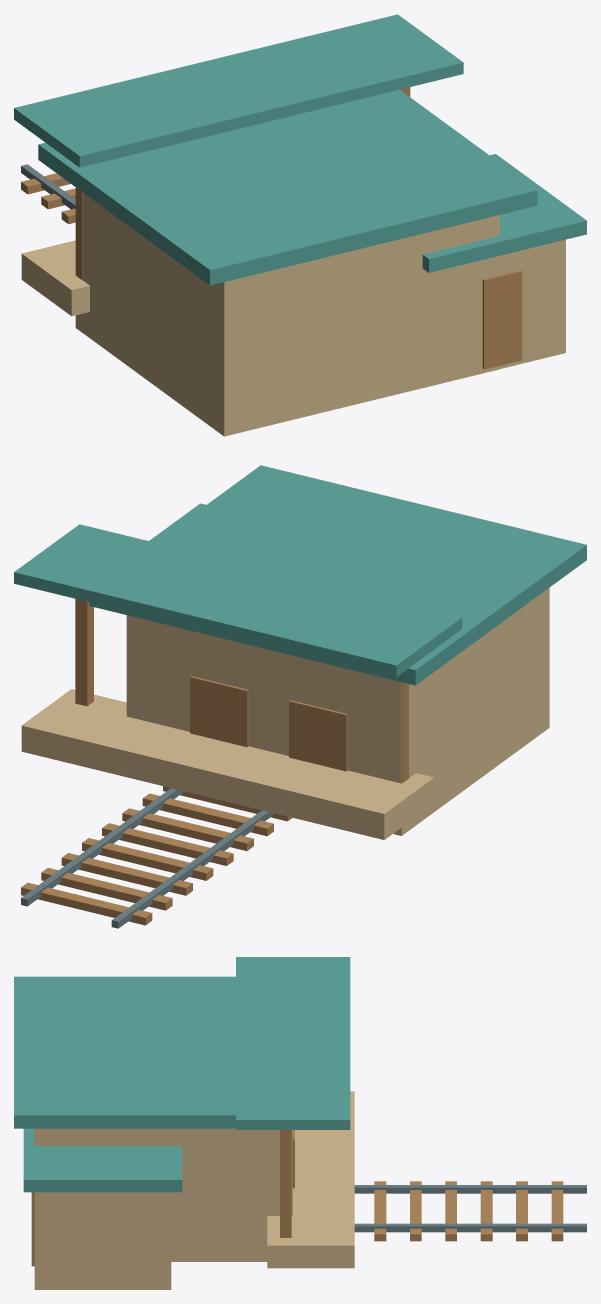
The model's file is CargoStation.glb.
3 views of the same model, one above another, from view 1: azimuth 30°, elevation 25°; view 2: azimuth 150°, elevation 25°; view 3: azimuth 270°, elevation 25° (orthographic). The views are drawn at different scales.
Visible parts, largest first — view 1: hand-pump-static-cargo-station-slate-roof, hand-pump-static-cargo-station-cream-wall, hand-pump-static-cargo-station-loading-timber, hand-pump-static-cargo-station-platform-stone, hand-pump-static-cargo-station-rail-iron; view 2: hand-pump-static-cargo-station-slate-roof, hand-pump-static-cargo-station-cream-wall, hand-pump-static-cargo-station-platform-stone, hand-pump-static-cargo-station-loading-timber, hand-pump-static-cargo-station-rail-iron; view 3: hand-pump-static-cargo-station-slate-roof, hand-pump-static-cargo-station-cream-wall, hand-pump-static-cargo-station-platform-stone, hand-pump-static-cargo-station-loading-timber, hand-pump-static-cargo-station-rail-iron.
Part boxes in pixels (x1,y1,x2,y2): hand-pump-static-cargo-station-slate-roof: [14, 14, 586, 285]; hand-pump-static-cargo-station-cream-wall: [75, 193, 565, 436]; hand-pump-static-cargo-station-loading-timber: [21, 87, 522, 369]; hand-pump-static-cargo-station-platform-stone: [21, 240, 89, 316]; hand-pump-static-cargo-station-rail-iron: [21, 164, 75, 209]; hand-pump-static-cargo-station-slate-roof: [14, 465, 586, 685]; hand-pump-static-cargo-station-cream-wall: [126, 588, 549, 835]; hand-pump-static-cargo-station-platform-stone: [21, 689, 434, 839]; hand-pump-static-cargo-station-loading-timber: [21, 599, 408, 925]; hand-pump-static-cargo-station-rail-iron: [21, 788, 273, 928]; hand-pump-static-cargo-station-slate-roof: [14, 957, 350, 1192]; hand-pump-static-cargo-station-cream-wall: [34, 1128, 292, 1289]; hand-pump-static-cargo-station-platform-stone: [267, 1091, 354, 1268]; hand-pump-static-cargo-station-loading-timber: [31, 1130, 563, 1266]; hand-pump-static-cargo-station-rail-iron: [354, 1185, 586, 1232].
Size of the model in its own units: 5.23 by 2.63 by 7.77.
